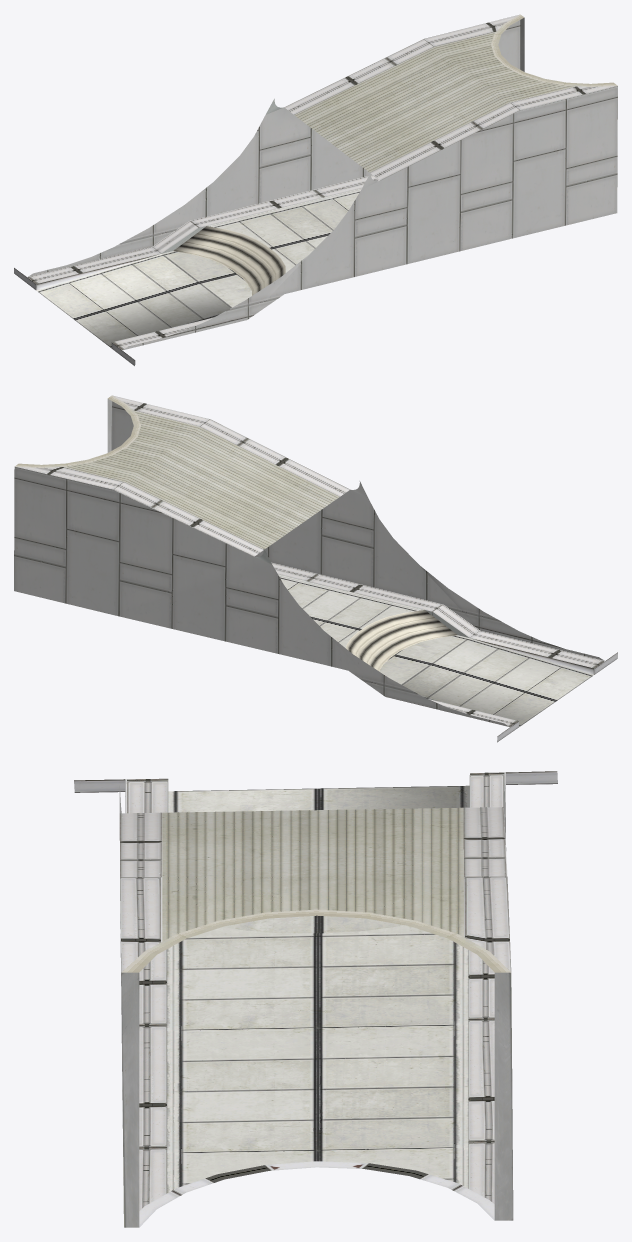
The model's file is STA20_05b.FBX.
The picture shows the model from 3 angles, top to bottom: view 1: azimuth 30°, elevation 25°; view 2: azimuth 150°, elevation 25°; view 3: azimuth 270°, elevation 25°; orthographic projection. The views are drawn at different scales.
Visible parts, largest first — view 1: STA20_05b; view 2: STA20_05b; view 3: STA20_05b.
Boxes of the visible parts, x1,y1,x2,y2 form: STA20_05b: (14,14,617,365); STA20_05b: (14,395,617,742); STA20_05b: (74,771,557,1227).
Bounding box in the file's own units: 19.7 × 5.76 × 8.35.
